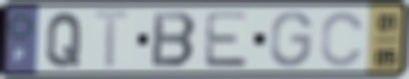B: (149, 10, 200, 70)
C: (319, 9, 367, 69)
E: (202, 9, 252, 70)
G: (268, 9, 315, 70)
Q: (43, 11, 85, 70)
T: (90, 8, 136, 72)
